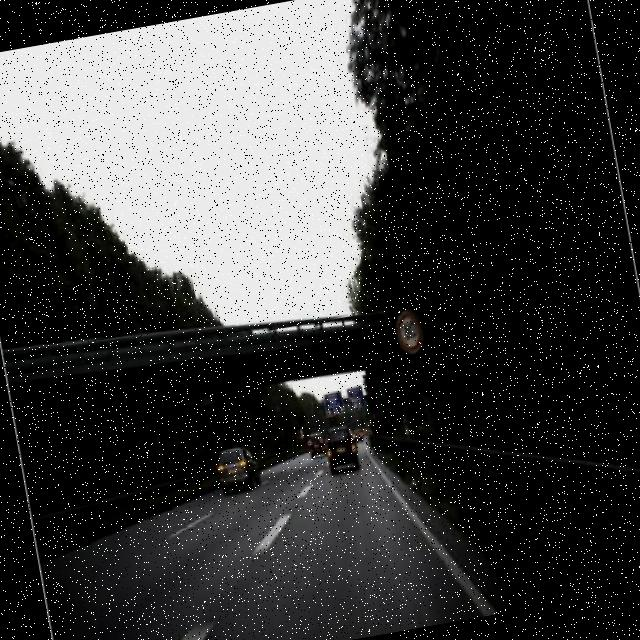Ograniczenie predkosci do 80: (391, 304, 430, 358)
